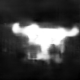plane: (6, 19, 79, 64)
